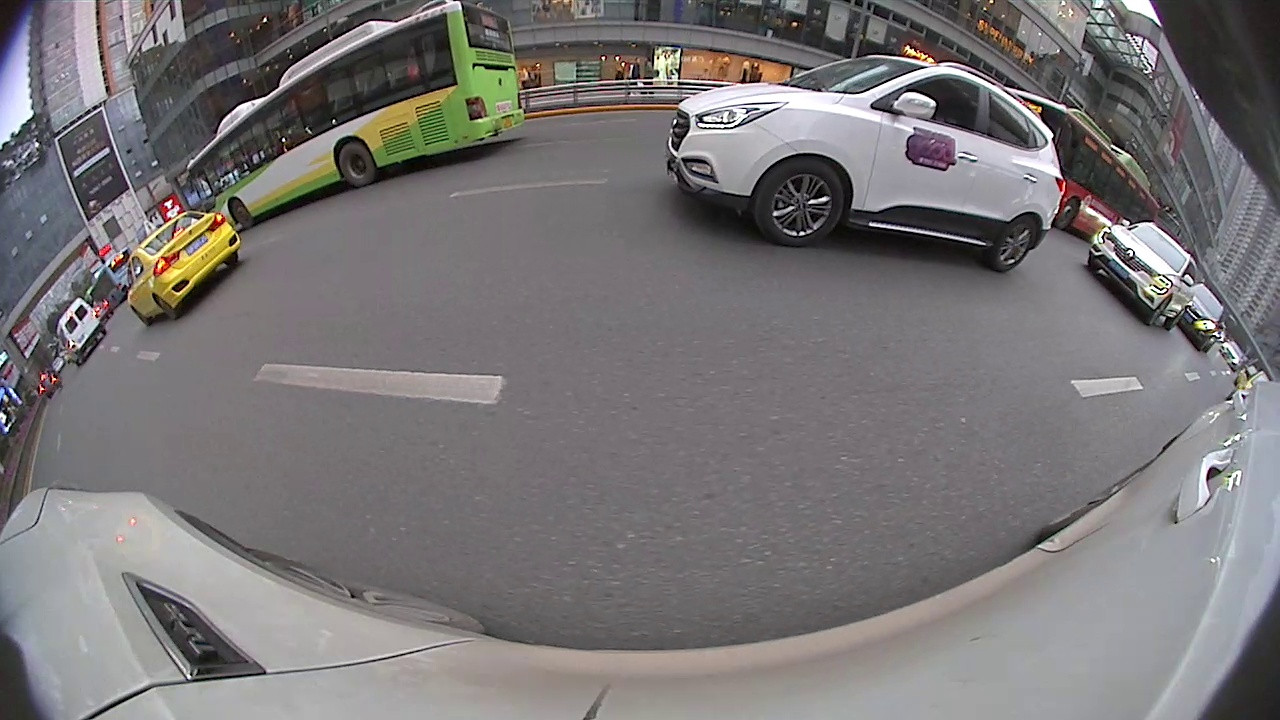bus: (180, 1, 543, 252), (997, 83, 1163, 244)
car: (661, 56, 1066, 278), (123, 207, 248, 327), (1082, 226, 1201, 330), (1171, 284, 1229, 357), (58, 298, 112, 370)
front: (760, 161, 845, 248), (1144, 295, 1174, 329), (1055, 194, 1080, 232), (227, 198, 252, 228)
rear: (988, 214, 1039, 275), (335, 139, 378, 188)
